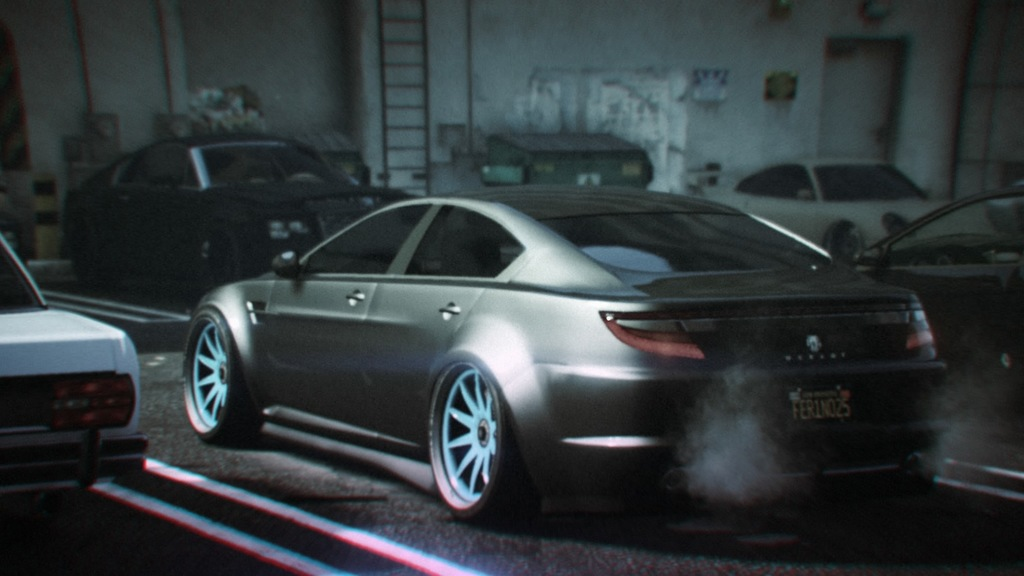car: (158, 174, 963, 528), (1, 182, 181, 513), (42, 117, 405, 281), (848, 166, 1024, 401), (697, 140, 964, 252)
